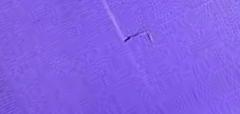snag: (121, 29, 157, 48)
